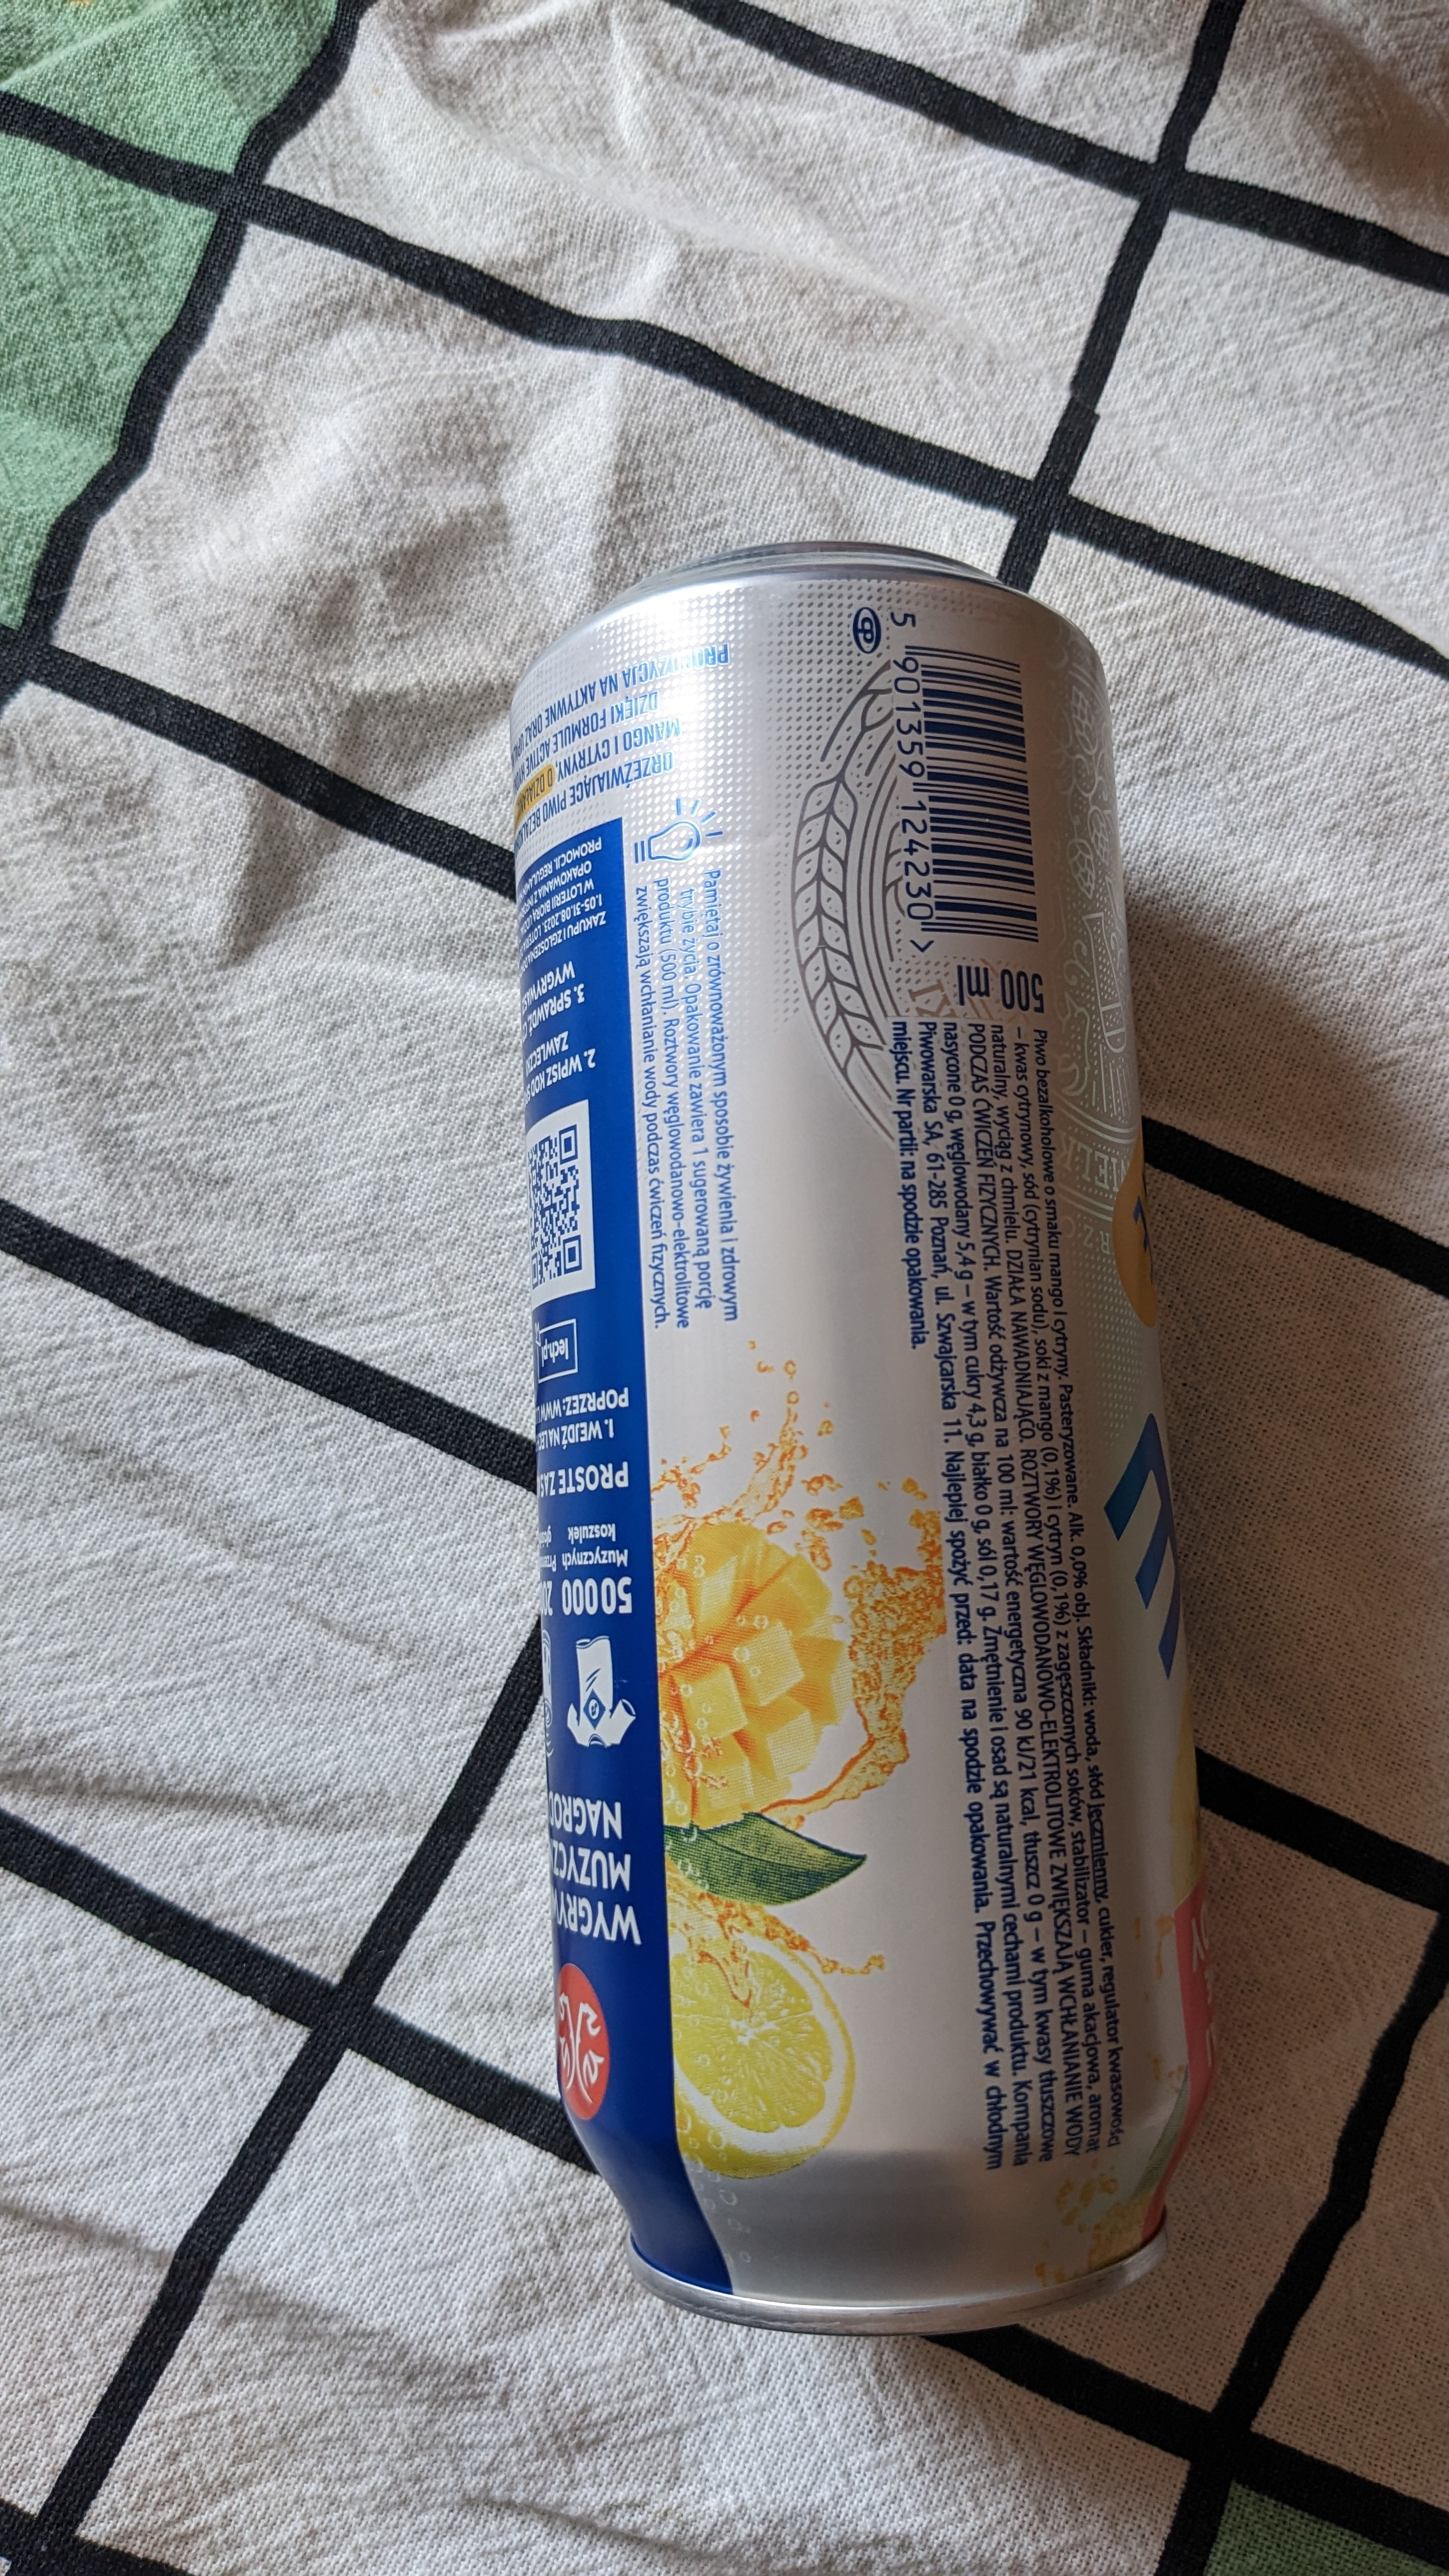lech-active: (483, 518, 1263, 2362)
